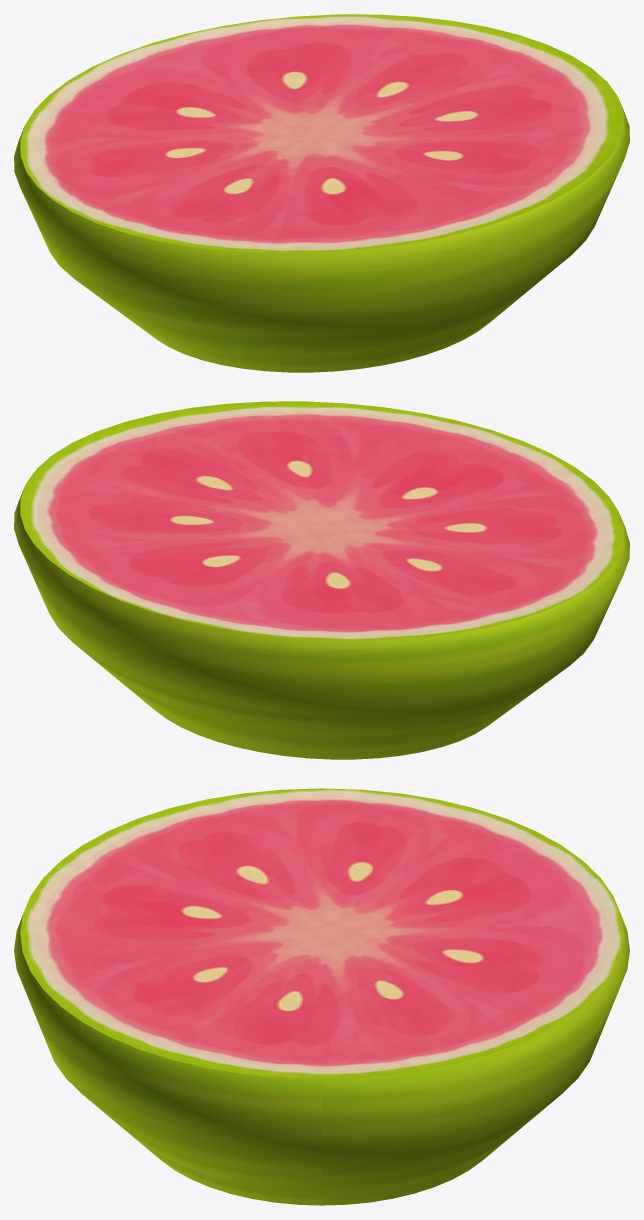
File: guava_half-CKAcniHJ.glb
3 views of the same model, one above another, from view 1: azimuth 30°, elevation 25°; view 2: azimuth 150°, elevation 25°; view 3: azimuth 270°, elevation 25° (orthographic). The views are drawn at different scales.
Parts seen in each view (by area): view 1: HI_guava_half; view 2: HI_guava_half; view 3: HI_guava_half.
Part boxes in pixels (x1,y1,x2,y2): HI_guava_half: (14, 14, 629, 372); HI_guava_half: (14, 401, 629, 759); HI_guava_half: (14, 788, 629, 1205).
Size of the model in its own units: 0.98 by 0.32 by 0.86.
1 material, 1 textured.
